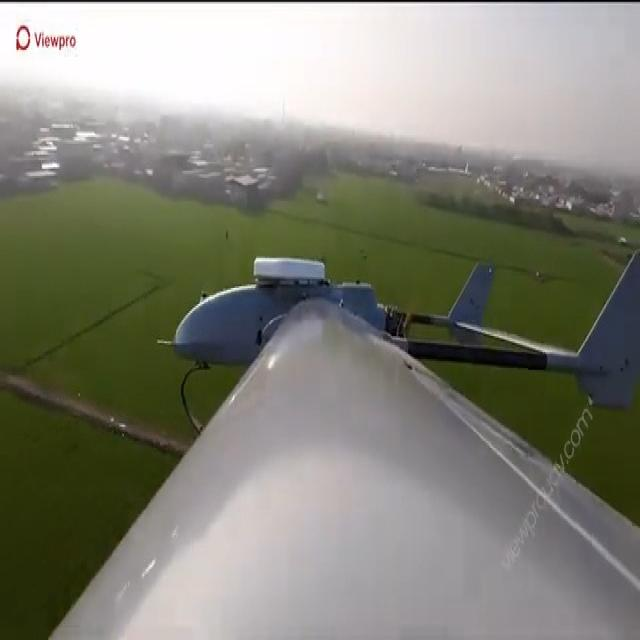drones: (155, 241, 640, 478)
